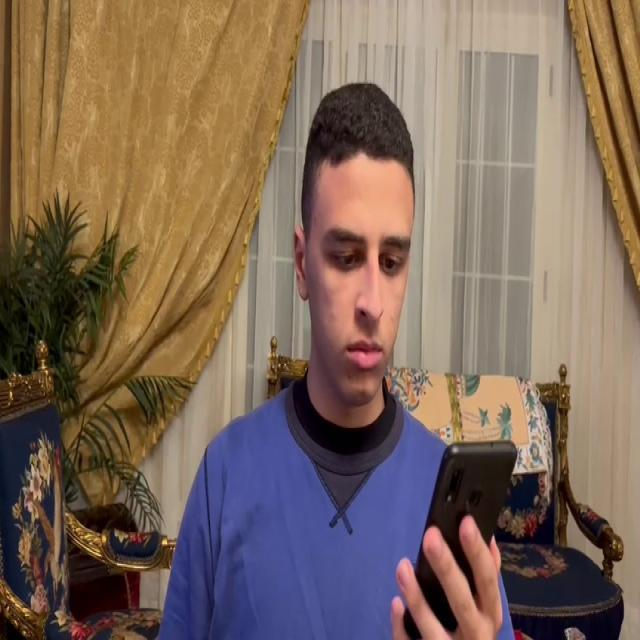phone: (403, 438, 515, 630)
